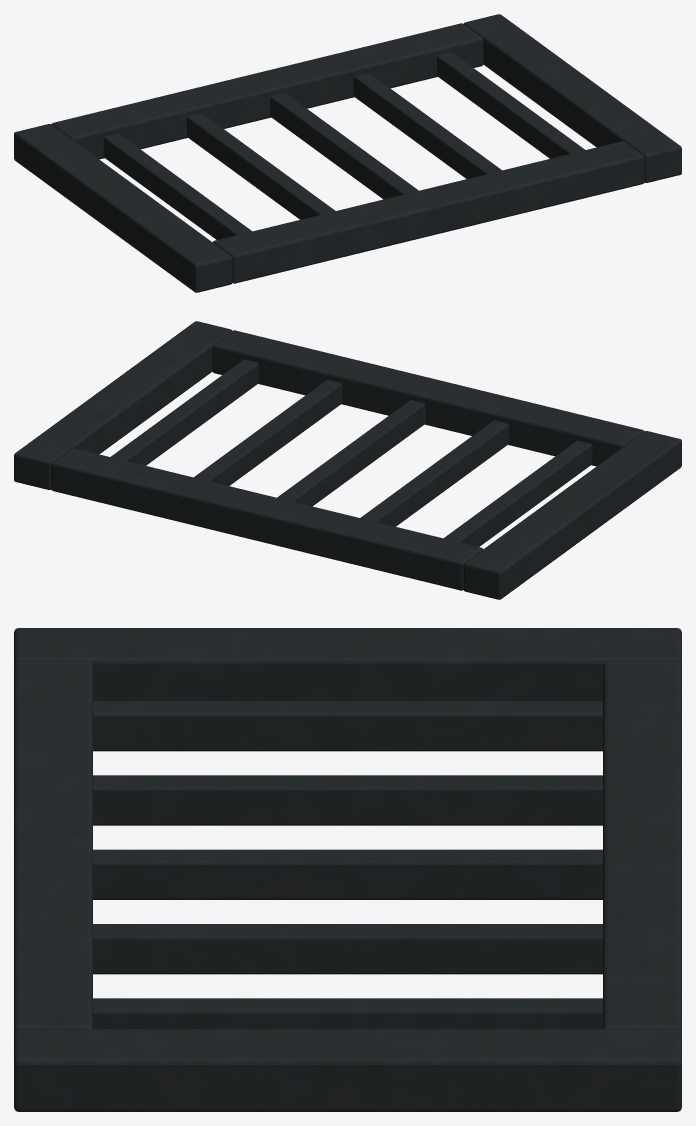
File: Drain_Grate.fbx
The picture shows the model from 3 angles, top to bottom: view 1: azimuth 30°, elevation 25°; view 2: azimuth 150°, elevation 25°; view 3: azimuth 270°, elevation 25°; orthographic projection. The views are drawn at different scales.
Parts seen in each view (by area): view 1: Drain_Grate.001; view 2: Drain_Grate.001; view 3: Drain_Grate.001.
Part boxes in pixels (x1=…): Drain_Grate.001: x1=14, y1=14, x2=681, y2=292; Drain_Grate.001: x1=14, y1=321, x2=681, y2=599; Drain_Grate.001: x1=14, y1=628, x2=681, y2=1111.
Size of the model in its own units: 1.17 by 0.066 by 0.76.
